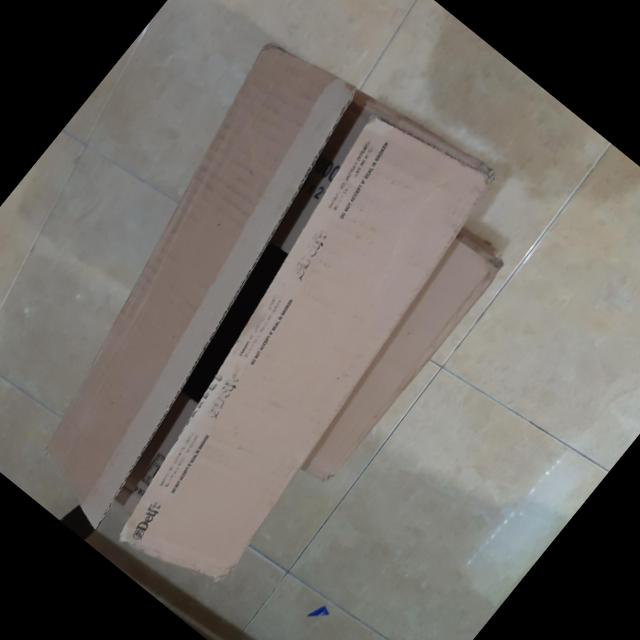Kardus: (0, 10, 547, 628)
